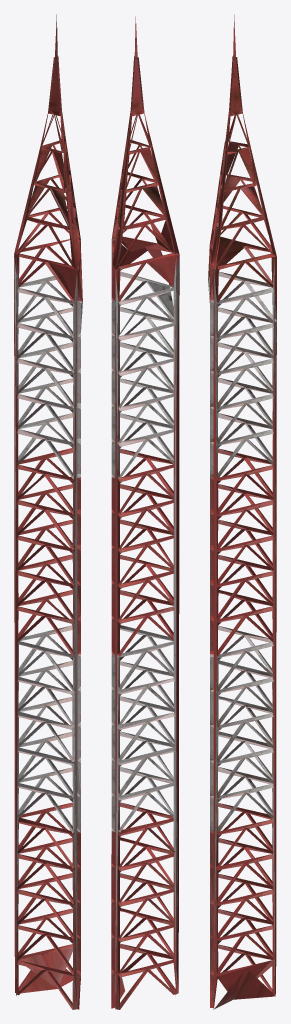
The model's file is base_mast_lod1.glb.
3 renders of one model, left to right at view 1: azimuth 90°, elevation 25°; view 2: azimuth 150°, elevation 25°; view 3: azimuth 270°, elevation 25°, orthographic.
Parts seen in each view (by area): view 1: base_mast; view 2: base_mast; view 3: base_mast.
Part boxes in pixels (<box>): base_mast: <box>14,14,82,1009</box>; base_mast: <box>111,16,179,1009</box>; base_mast: <box>208,14,276,1009</box>.
Size of the model in its own units: 2.15 by 30.48 by 1.94.
1 material, 1 textured.
